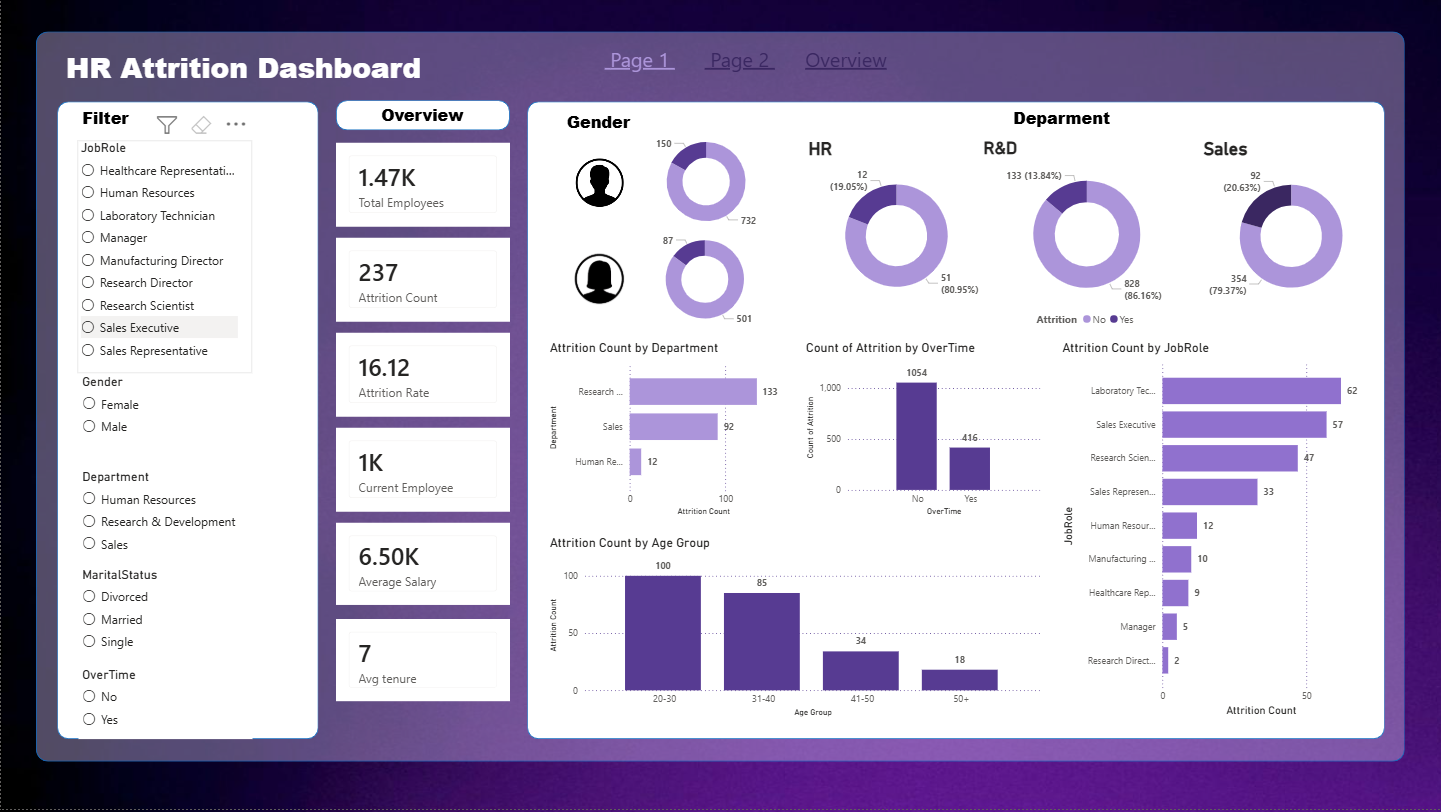

This screenshot's page, from the dashboard's own definition file:
{"tool":"powerbi","page":{"name":"Dashboard","canvas":[1920,1080],"ordinal":0},"visuals":[{"type":"shape","box":[46.7,43.3,1825,973.3],"z":0},{"type":"textbox","box":[81.1,59.5,513.3,77.4],"z":0,"group":"g1"},{"type":"textbox","box":[783.7,56,133.3,61.2],"z":1000,"group":"g1"},{"type":"shape","box":[446.7,135,231.7,40],"z":1000},{"type":"textbox","box":[917,56,133.3,61.2],"z":2000,"group":"g1"},{"type":"shape","box":[701.7,136.7,1143.3,850],"z":2000},{"type":"textbox","box":[1050.3,56,153.1,61.2],"z":3000,"group":"g1"},{"type":"cardVisual","fields":{"Data":["CountNonNull(HR-Employee-Attrition.EmployeeNumber)"]},"box":[446.7,191.7,231.7,131.7],"z":3000},{"type":"shape","box":[75,136.7,348.3,850],"z":4000},{"type":"cardVisual","fields":{"Data":["HR-Employee-Attrition.Attrition Count"]},"box":[446.7,483.3,231.7,131.7],"z":5000},{"type":"cardVisual","fields":{"Data":["HR-Employee-Attrition.Current Employee"]},"box":[446.7,628.3,231.7,131.7],"z":6000},{"type":"cardVisual","fields":{"Data":["HR-Employee-Attrition.Attrition Rate"]},"box":[446.7,338.3,231.7,131.7],"z":7000},{"type":"cardVisual","fields":{"Data":["HR-Employee-Attrition.Average Salary"]},"box":[446.7,775,231.7,131.7],"z":8000},{"type":"clusteredBarChart","fields":{"Category":["HR-Employee-Attrition.Department"],"Y":["HR-Employee-Attrition.Attrition Count"]},"box":[1138,446,324,240],"z":9000},{"type":"columnChart","fields":{"Category":["HR-Employee-Attrition.OverTime"],"Y":["CountNonNull(HR-Employee-Attrition.Attrition)"]},"box":[1496,454,328,240],"z":10000},{"type":"barChart","fields":{"Category":["HR-Employee-Attrition.JobRole"],"Y":["HR-Employee-Attrition.Attrition Count"]},"box":[724,454,414,506],"z":11000},{"type":"columnChart","fields":{"Category":["HR-Employee-Attrition.MonthlyIncome"],"Y":["CountNonNull(HR-Employee-Attrition.Attrition)"]},"box":[1126.7,694.2,697.7,265.1],"z":12000},{"type":"listSlicer","fields":{"Values":["HR-Employee-Attrition.Gender"]},"box":[103.9,498.3,231.7,115],"z":13000},{"type":"listSlicer","fields":{"Values":["HR-Employee-Attrition.Department"]},"box":[103.9,613.3,231.7,143.3],"z":14000},{"type":"listSlicer","fields":{"Values":["HR-Employee-Attrition.JobRole"]},"box":[103.9,175,231.7,323.3],"z":15000},{"type":"listSlicer","fields":{"Values":["HR-Employee-Attrition.MaritalStatus"]},"box":[103.9,756.7,231.7,133.3],"z":16000},{"type":"listSlicer","fields":{"Values":["HR-Employee-Attrition.OverTime"]},"box":[103.3,890,231.7,96.7],"z":17000},{"type":"donutChart","title":"HR","fields":{"Category":["HR-Employee-Attrition.Attrition"],"Y":["CountNonNull(HR-Employee-Attrition.EmployeeCount)"]},"box":[1071.7,185.5,245,234.1],"z":18000},{"type":"donutChart","title":"R&D","fields":{"Category":["HR-Employee-Attrition.Attrition"],"Y":["CountNonNull(HR-Employee-Attrition.EmployeeCount)"]},"box":[1304.3,185.7,285.9,260.9],"z":19000},{"type":"donutChart","title":"Sales","fields":{"Category":["HR-Employee-Attrition.Attrition"],"Y":["CountNonNull(HR-Employee-Attrition.EmployeeCount)"]},"box":[1598.6,185.7,244.2,235.8],"z":20000},{"type":"textbox","box":[1314.8,137.7,198.3,48],"z":21000},{"type":"textbox","box":[463.3,135,196.7,46.7],"z":22000},{"type":"textbox","box":[103.3,135,196.7,46.7],"z":23000},{"type":"donutChart","fields":{"Category":["HR-Employee-Attrition.Attrition"],"Y":["Sum(HR-Employee-Attrition.EmployeeCount)"]},"box":[846.4,270.2,184,208],"z":24000},{"type":"donutChart","fields":{"Category":["HR-Employee-Attrition.Attrition"],"Y":["Sum(HR-Employee-Attrition.EmployeeCount)"]},"box":[848.4,142.2,184,204],"z":25000},{"type":"image","box":[763.3,212.3,70,66],"z":26000},{"type":"image","box":[763.8,317.2,68.9,112.7],"z":27000},{"type":"group","id":"g1","title":"Group 1","box":[81.1,56,1122.2,80.9],"z":29000},{"type":"textbox","box":[698,144,196,46],"z":29500}]}

Visuals, with their boxes in screenshot pixels (x1, y1, x2, y2), scaled from the page's 1920x1080 canvas onto the 1441x812 screenshot:
shape: pyautogui.locateOnScreen(35, 33, 1405, 764)
textbox: pyautogui.locateOnScreen(61, 45, 446, 103)
textbox: pyautogui.locateOnScreen(588, 42, 688, 88)
shape: pyautogui.locateOnScreen(335, 102, 509, 132)
textbox: pyautogui.locateOnScreen(688, 42, 788, 88)
shape: pyautogui.locateOnScreen(527, 103, 1385, 742)
textbox: pyautogui.locateOnScreen(788, 42, 903, 88)
cardVisual - CountNonNull(HR-Employee-Attrition.EmployeeNumber): pyautogui.locateOnScreen(335, 144, 509, 243)
shape: pyautogui.locateOnScreen(56, 103, 318, 742)
cardVisual - HR-Employee-Attrition.Attrition Count: pyautogui.locateOnScreen(335, 363, 509, 462)
cardVisual - HR-Employee-Attrition.Current Employee: pyautogui.locateOnScreen(335, 472, 509, 571)
cardVisual - HR-Employee-Attrition.Attrition Rate: pyautogui.locateOnScreen(335, 254, 509, 353)
cardVisual - HR-Employee-Attrition.Average Salary: pyautogui.locateOnScreen(335, 583, 509, 682)
clusteredBarChart - HR-Employee-Attrition.Department x HR-Employee-Attrition.Attrition Count: pyautogui.locateOnScreen(854, 335, 1097, 516)
columnChart - HR-Employee-Attrition.OverTime x CountNonNull(HR-Employee-Attrition.Attrition): pyautogui.locateOnScreen(1123, 341, 1369, 522)
barChart - HR-Employee-Attrition.JobRole x HR-Employee-Attrition.Attrition Count: pyautogui.locateOnScreen(543, 341, 854, 722)
columnChart - HR-Employee-Attrition.MonthlyIncome x CountNonNull(HR-Employee-Attrition.Attrition): pyautogui.locateOnScreen(846, 522, 1369, 721)
listSlicer - HR-Employee-Attrition.Gender: pyautogui.locateOnScreen(78, 375, 252, 461)
listSlicer - HR-Employee-Attrition.Department: pyautogui.locateOnScreen(78, 461, 252, 569)
listSlicer - HR-Employee-Attrition.JobRole: pyautogui.locateOnScreen(78, 132, 252, 375)
listSlicer - HR-Employee-Attrition.MaritalStatus: pyautogui.locateOnScreen(78, 569, 252, 669)
listSlicer - HR-Employee-Attrition.OverTime: pyautogui.locateOnScreen(78, 669, 251, 742)
"HR" donutChart: pyautogui.locateOnScreen(804, 139, 988, 315)
"R&D" donutChart: pyautogui.locateOnScreen(979, 140, 1193, 336)
"Sales" donutChart: pyautogui.locateOnScreen(1200, 140, 1383, 317)
textbox: pyautogui.locateOnScreen(987, 104, 1136, 140)
textbox: pyautogui.locateOnScreen(348, 102, 495, 137)
textbox: pyautogui.locateOnScreen(78, 102, 225, 137)
donutChart - HR-Employee-Attrition.Attrition x Sum(HR-Employee-Attrition.EmployeeCount): pyautogui.locateOnScreen(635, 203, 773, 360)
donutChart - HR-Employee-Attrition.Attrition x Sum(HR-Employee-Attrition.EmployeeCount): pyautogui.locateOnScreen(637, 107, 775, 260)
image: pyautogui.locateOnScreen(573, 160, 625, 209)
image: pyautogui.locateOnScreen(573, 238, 625, 323)
"Group 1" group: pyautogui.locateOnScreen(61, 42, 903, 103)
textbox: pyautogui.locateOnScreen(524, 108, 671, 143)
